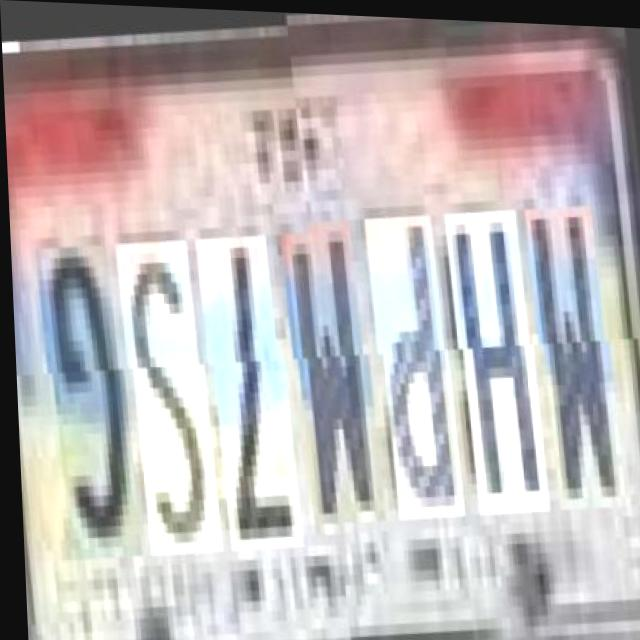7: (197, 212, 294, 531)
g: (37, 219, 133, 539)
h: (448, 201, 544, 509)
m: (283, 208, 379, 516), (529, 197, 620, 505)
p: (368, 205, 460, 512)
s: (117, 216, 214, 535)
